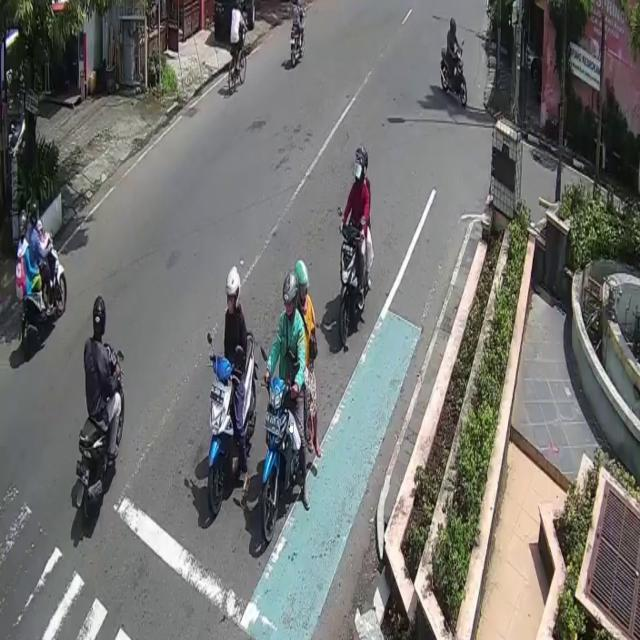bus: (205, 326, 259, 516), (74, 338, 127, 530), (260, 349, 308, 546), (18, 226, 68, 361), (337, 218, 369, 341), (438, 46, 469, 114), (287, 10, 310, 75)
